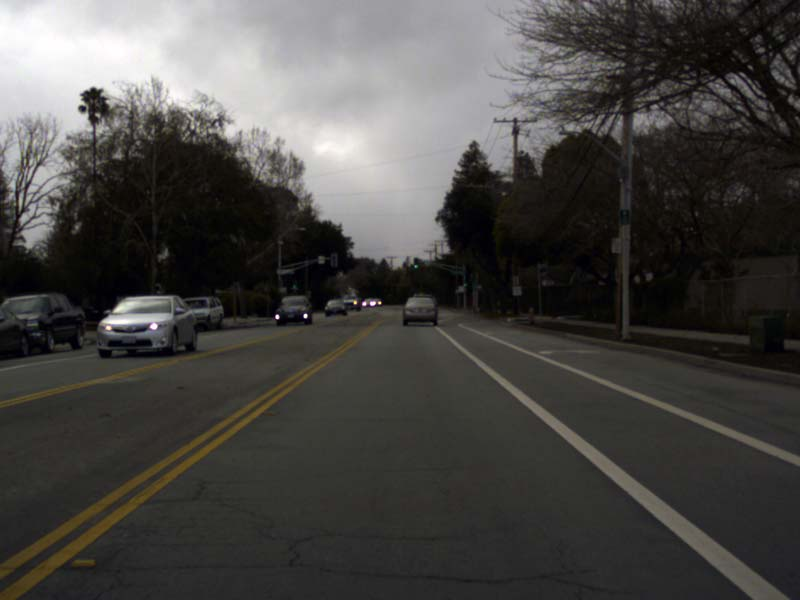Green: (463, 279, 468, 293), (413, 257, 418, 270), (292, 279, 295, 289)
